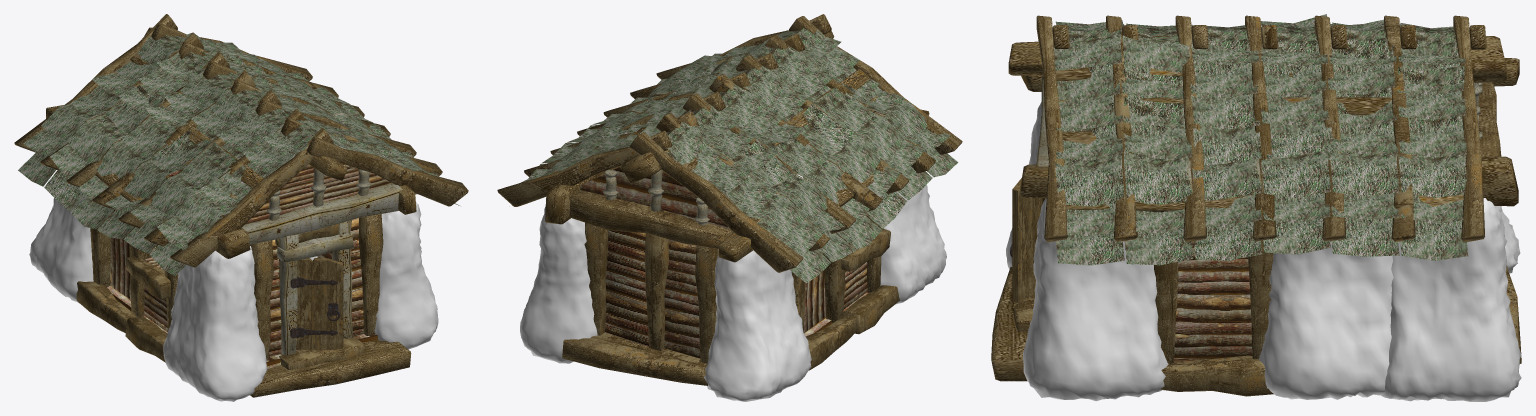
The picture shows the model from 3 angles, left to right: view 1: azimuth 30°, elevation 25°; view 2: azimuth 150°, elevation 25°; view 3: azimuth 270°, elevation 25°; orthographic projection. The views are drawn at different scales.
Parts seen in each view (by area): view 1: Carcass, Rool_R, Stone_wall, Roof_L, Door; view 2: Carcass, Rool_R, Stone_wall, Roof_L; view 3: Roof_L, Stone_wall, Carcass, Door, Rool_R.
Boxes of the visible parts, x1,y1,x2,y2 form: Carcass: (14,14,468,397); Rool_R: (18,34,313,275); Stone_wall: (29,156,438,401); Roof_L: (165,32,459,205); Door: (297,258,343,350); Carcass: (497,14,962,385); Rool_R: (667,28,958,282); Stone_wall: (520,184,946,401); Roof_L: (520,29,805,182); Roof_L: (1054,27,1468,265); Stone_wall: (1006,102,1521,401); Carcass: (991,15,1521,396); Door: (1010,178,1041,302); Rool_R: (1055,14,1454,36).
Size of what is drawn, in the model's own units: 1654 by 1283 by 1921.
